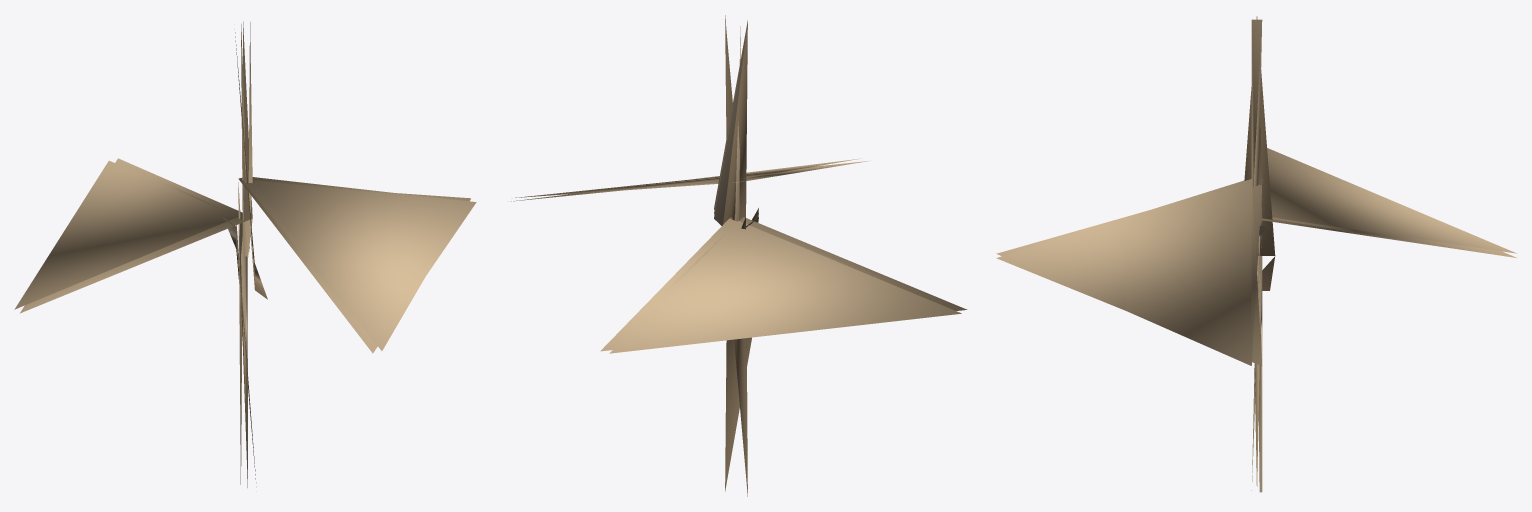
File: equip_ammo_quiver_bronze.glb
3 views of the same model, side by side, from view 1: azimuth 30°, elevation 25°; view 2: azimuth 150°, elevation 25°; view 3: azimuth 270°, elevation 25° (orthographic).
Visible parts, largest first — view 1: equip_ammo_quiver_bronze; view 2: equip_ammo_quiver_bronze; view 3: equip_ammo_quiver_bronze.
Boxes of the visible parts, <box> form: equip_ammo_quiver_bronze: <box>14,21,476,487</box>; equip_ammo_quiver_bronze: <box>508,15,967,496</box>; equip_ammo_quiver_bronze: <box>996,16,1516,492</box>.
Bounding box in the file's own units: 2 × 2 × 2.
